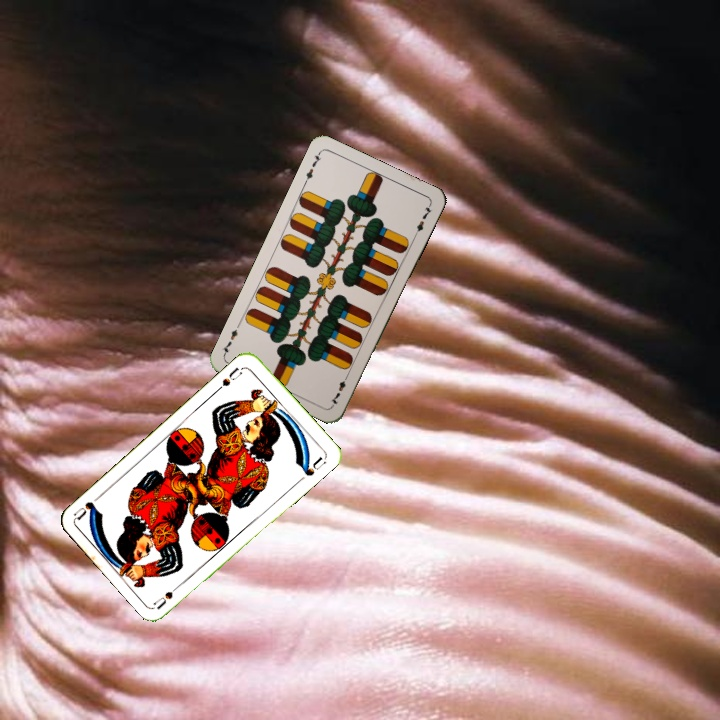E7: (326, 370, 351, 408), (300, 148, 324, 187)
SU: (150, 578, 186, 611), (213, 363, 247, 394)
